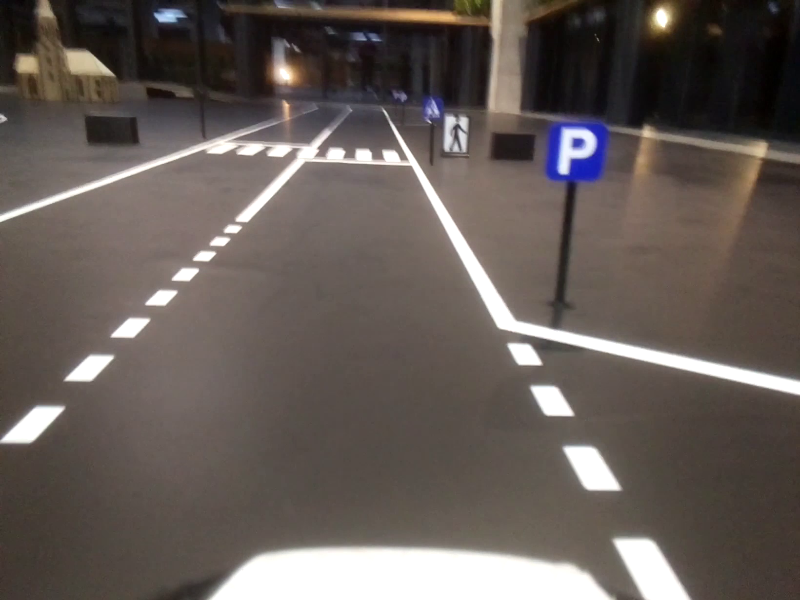park: (549, 124, 608, 184)
